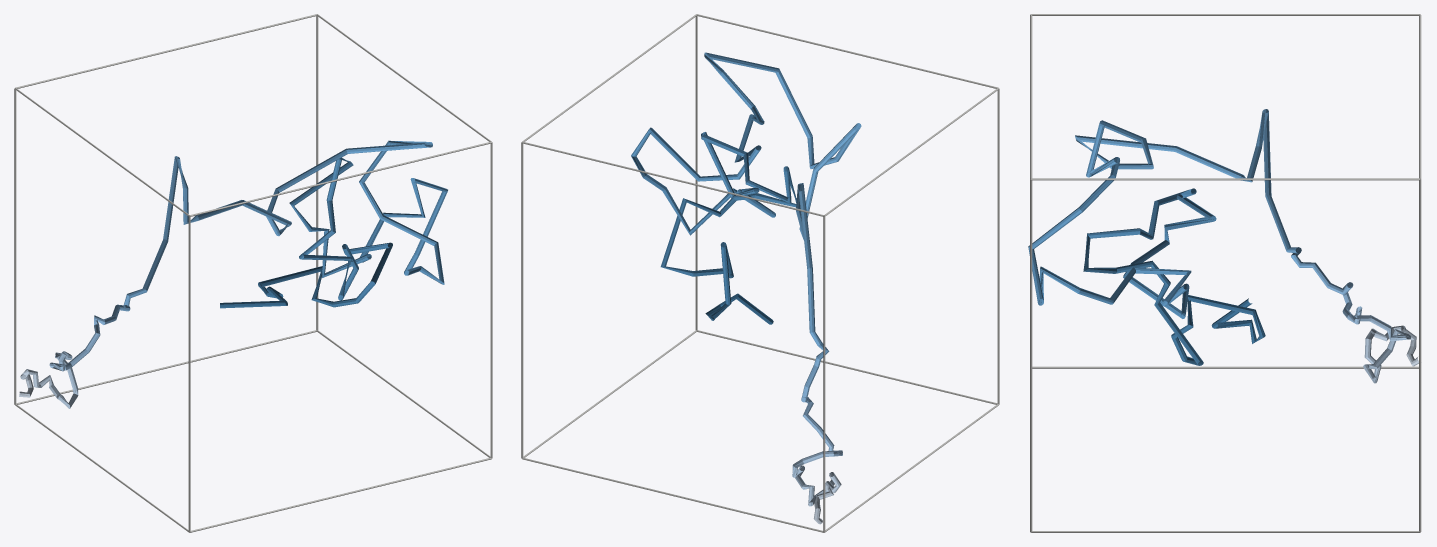
3 renders of one model, left to right at view 1: azimuth 30°, elevation 25°; view 2: azimuth 150°, elevation 25°; view 3: azimuth 270°, elevation 25°, orthographic. The views are drawn at different scales.
Visible parts, largest first — view 1: geometry_0, geometry_1; view 2: geometry_0, geometry_1; view 3: geometry_0, geometry_1.
Boxes of the visible parts, left/top/right/bottom form: geometry_0: left=19, top=140, right=447, bottom=408; geometry_1: left=14, top=14, right=492, bottom=532; geometry_0: left=631, top=52, right=861, bottom=524; geometry_1: left=521, top=14, right=999, bottom=532; geometry_0: left=1028, top=109, right=1418, bottom=383; geometry_1: left=1030, top=14, right=1421, bottom=532.
Size of the model in its own units: 0.3044 by 0.3014 by 0.3043.
